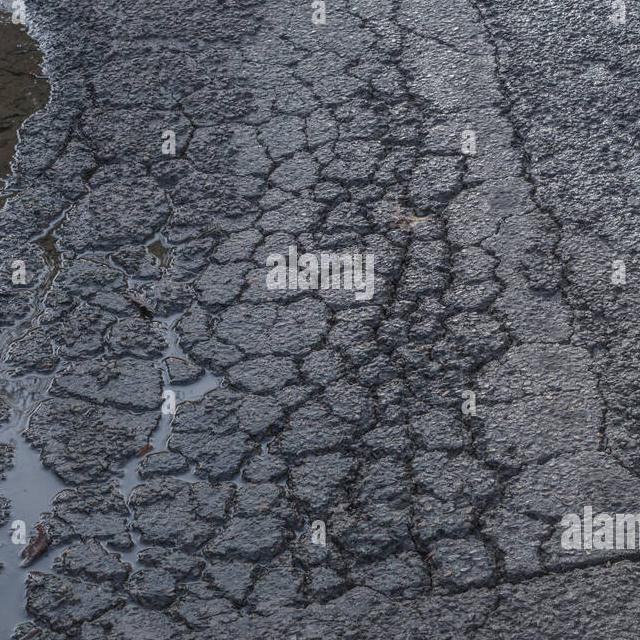retak_kulit_buaya: (23, 278, 528, 640)
